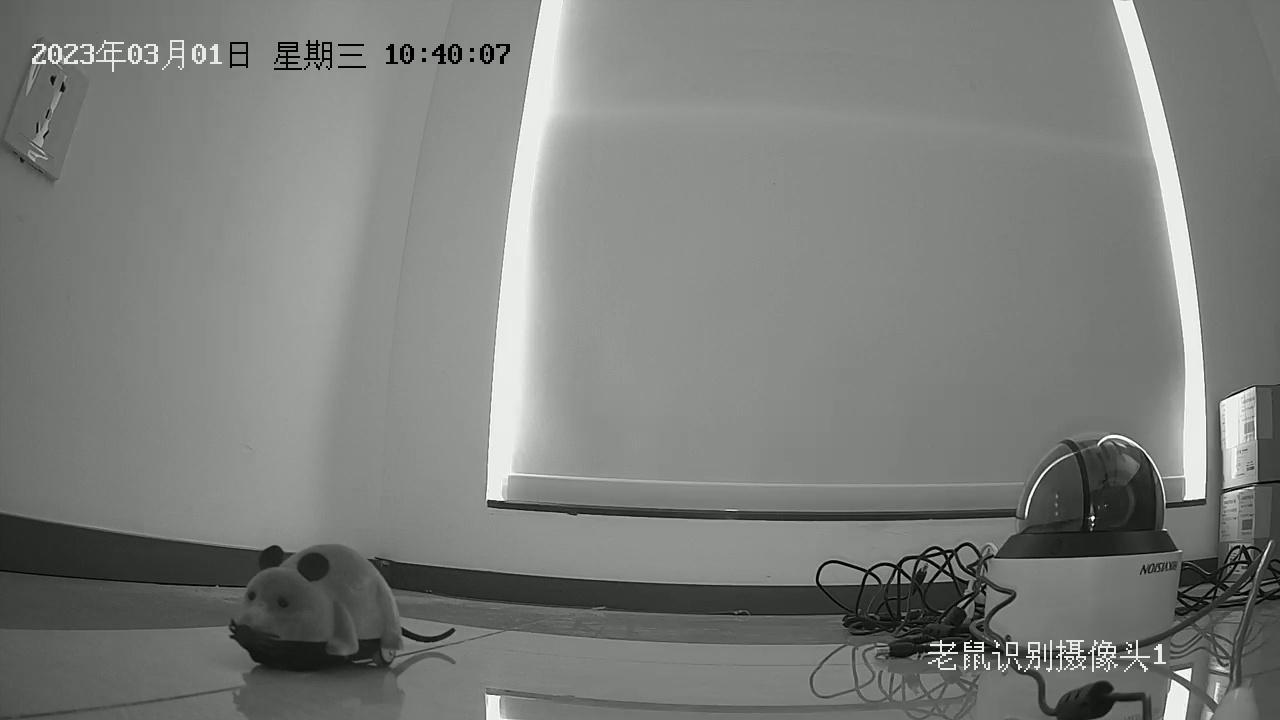rat: (230, 543, 456, 671)
